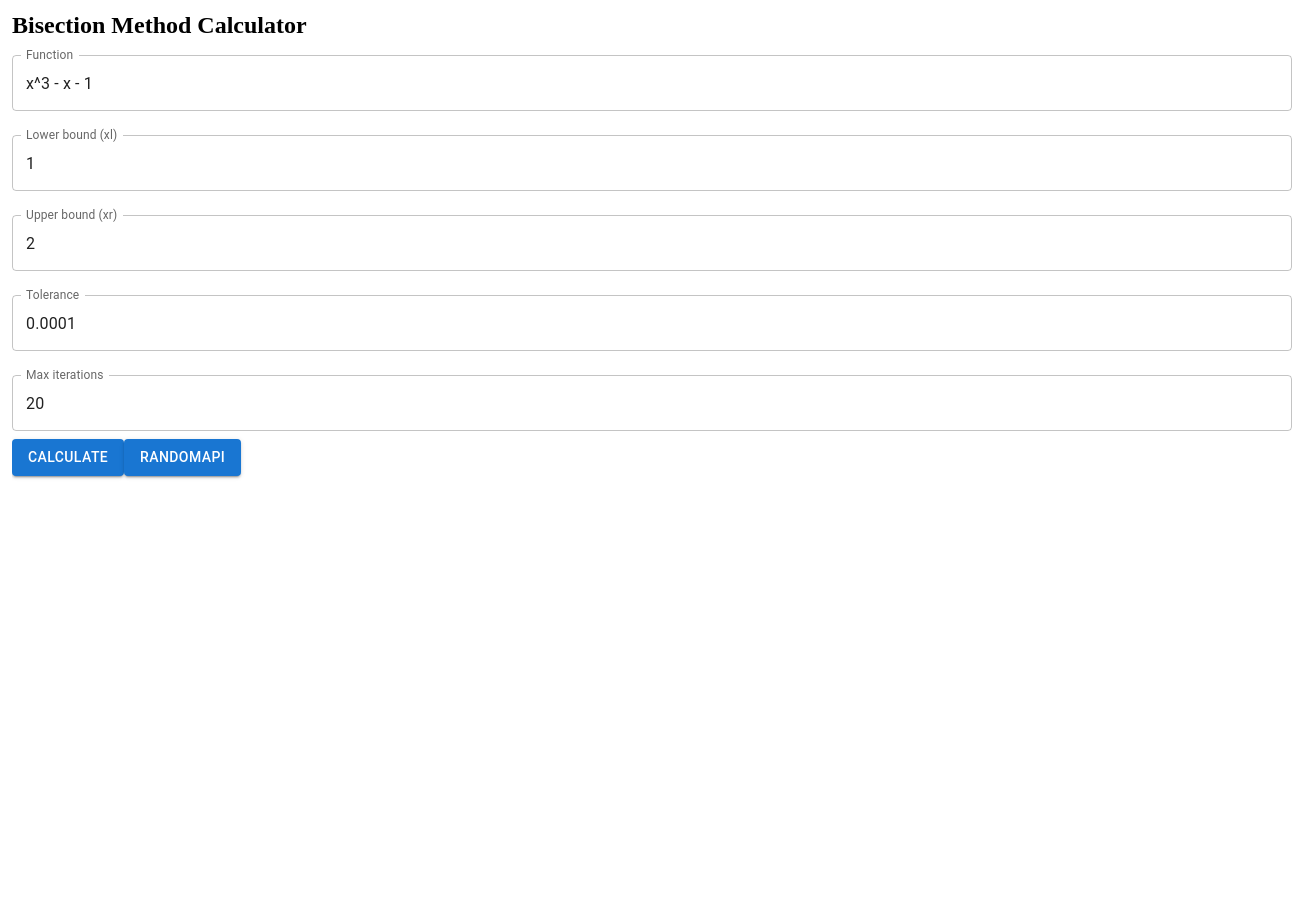
Renders main page correctly › Should show the button count set to 3
What coordinates should you click on to do the following:
click the button "Calculate"
I would click on:
 (68, 457)
Its box is top-left (12, 439), bottom-right (124, 476).
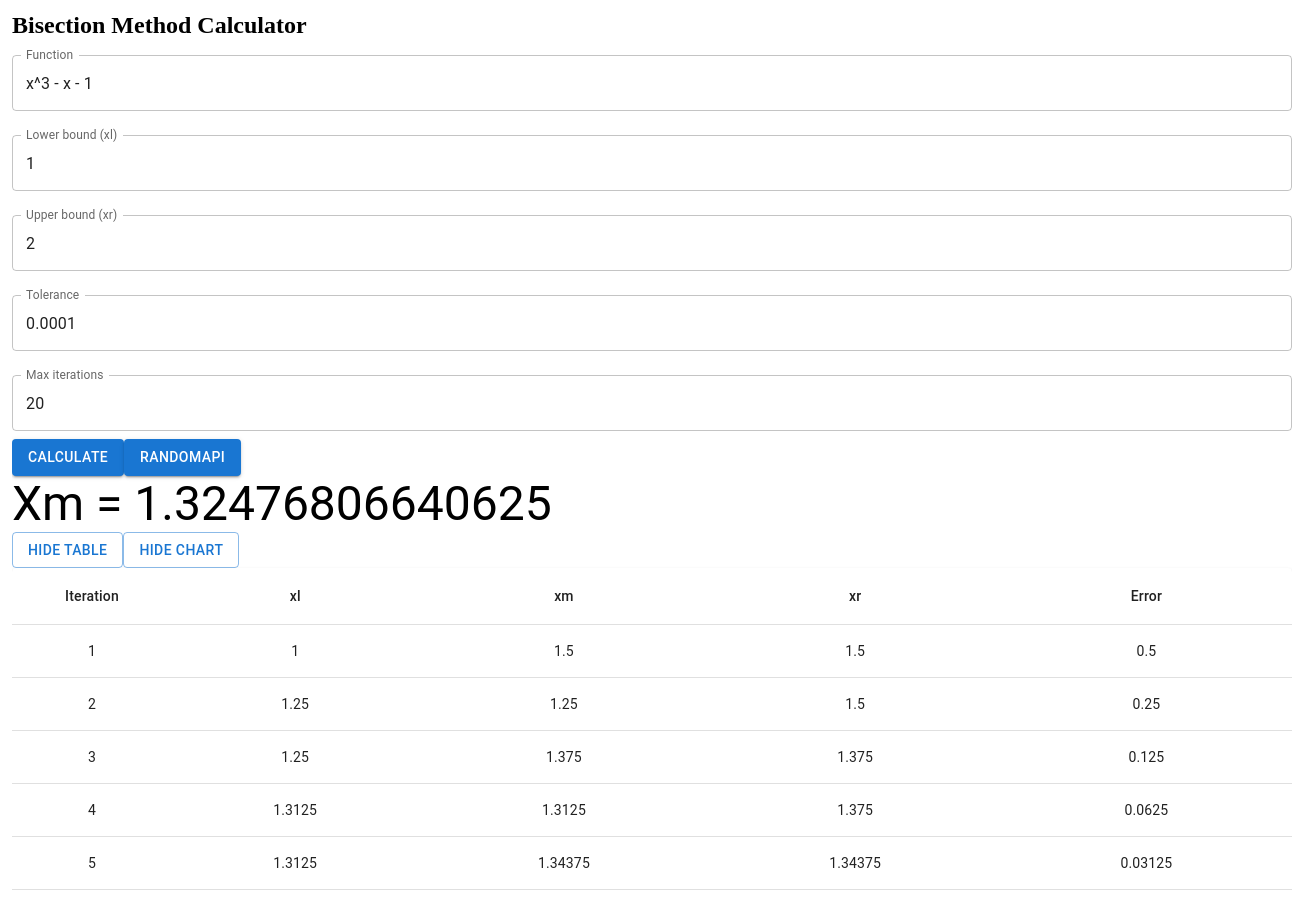
Result: the heading "Xm = 1.32476806640625" is shown at top-left (12, 474), bottom-right (552, 532)
